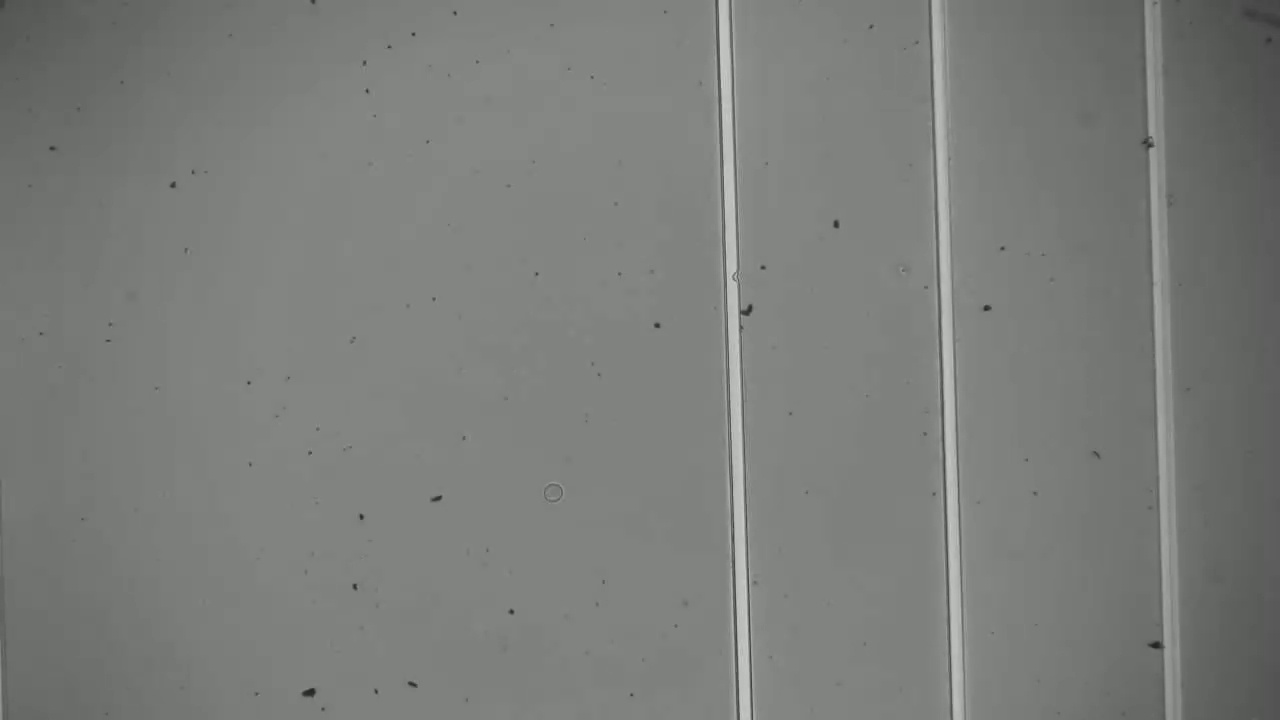edge_bite: (715, 263, 744, 288)
stains_enbedded: (1139, 124, 1173, 153)
